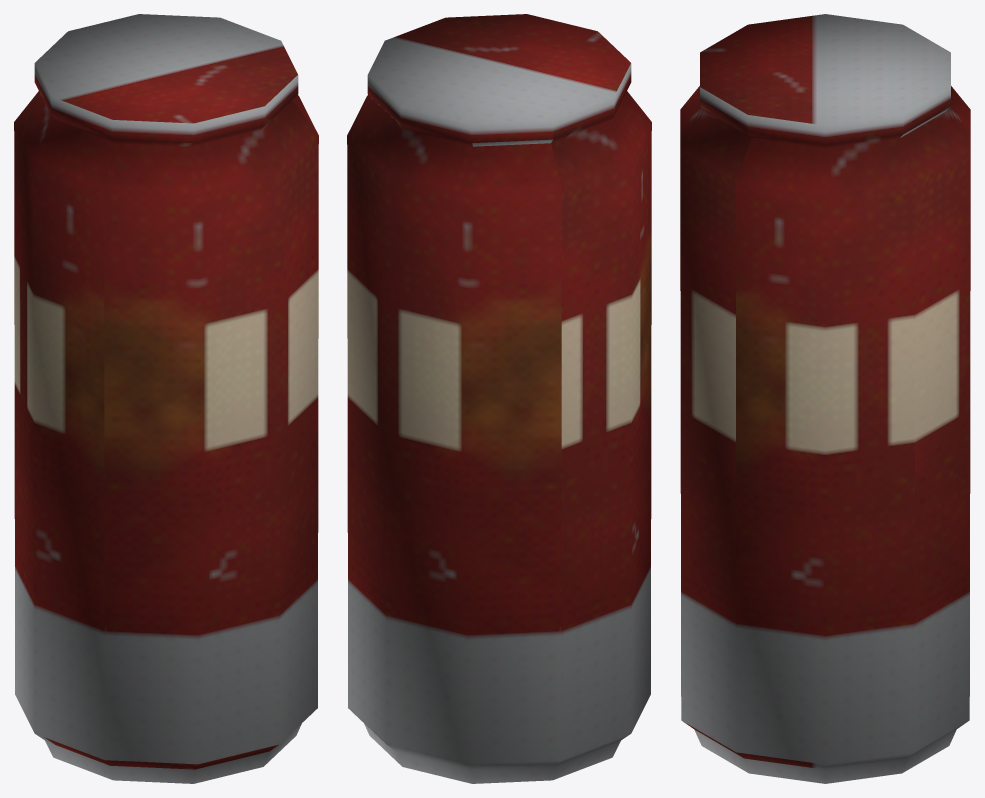
Rendered from BeerCanTallBoy.fbx.
3 views of the same model, side by side, from view 1: azimuth 30°, elevation 25°; view 2: azimuth 150°, elevation 25°; view 3: azimuth 270°, elevation 25° (orthographic).
Parts seen in each view (by area): view 1: BeerCanTallBoy; view 2: BeerCanTallBoy; view 3: BeerCanTallBoy.
Part boxes in pixels (box(x1,y1,x2,y2)): BeerCanTallBoy: box(14, 14, 318, 783); BeerCanTallBoy: box(347, 14, 651, 783); BeerCanTallBoy: box(680, 14, 970, 783).
Size of the model in its own units: 0.0876 by 0.2089 by 0.0833.
Materials: 1 (1 with a texture image).
